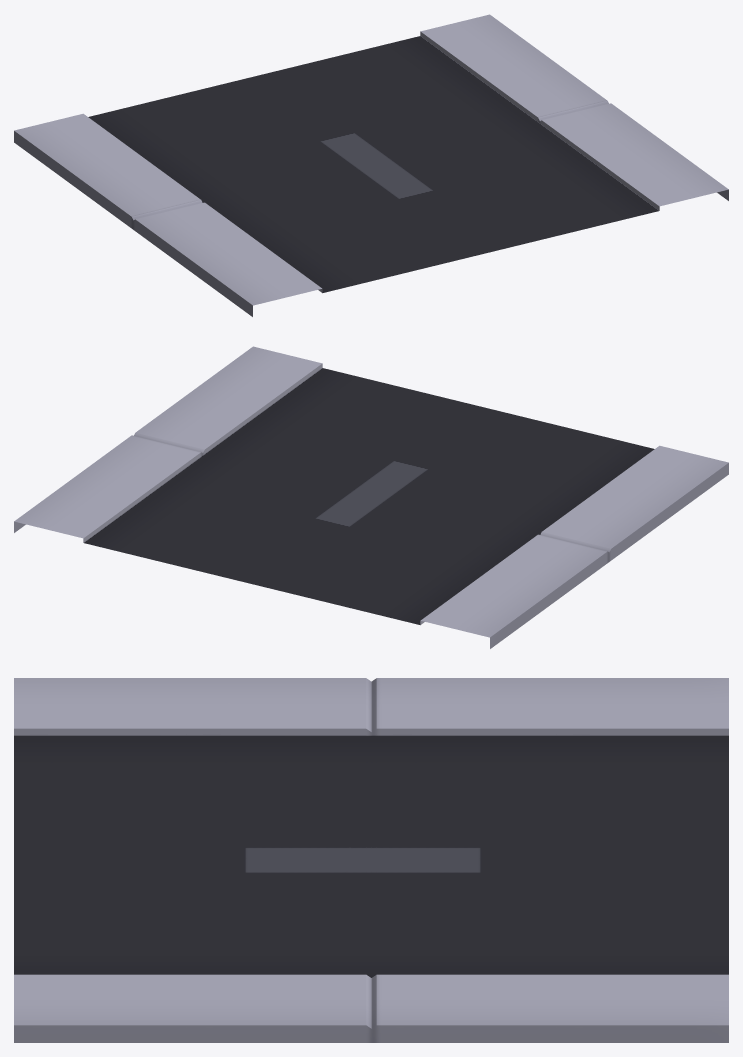
File: StraightRoad.fbx
The picture shows the model from 3 angles, top to bottom: view 1: azimuth 30°, elevation 25°; view 2: azimuth 150°, elevation 25°; view 3: azimuth 270°, elevation 25°; orthographic projection. The views are drawn at different scales.
Parts seen in each view (by area): view 1: straight road; view 2: straight road; view 3: straight road.
Boxes of the visible parts, bbox=[...] form: straight road: bbox=[14, 14, 728, 316]; straight road: bbox=[14, 346, 728, 648]; straight road: bbox=[14, 678, 728, 1042].
Size of the model in its own units: 15.68 by 0.3743 by 13.65.
